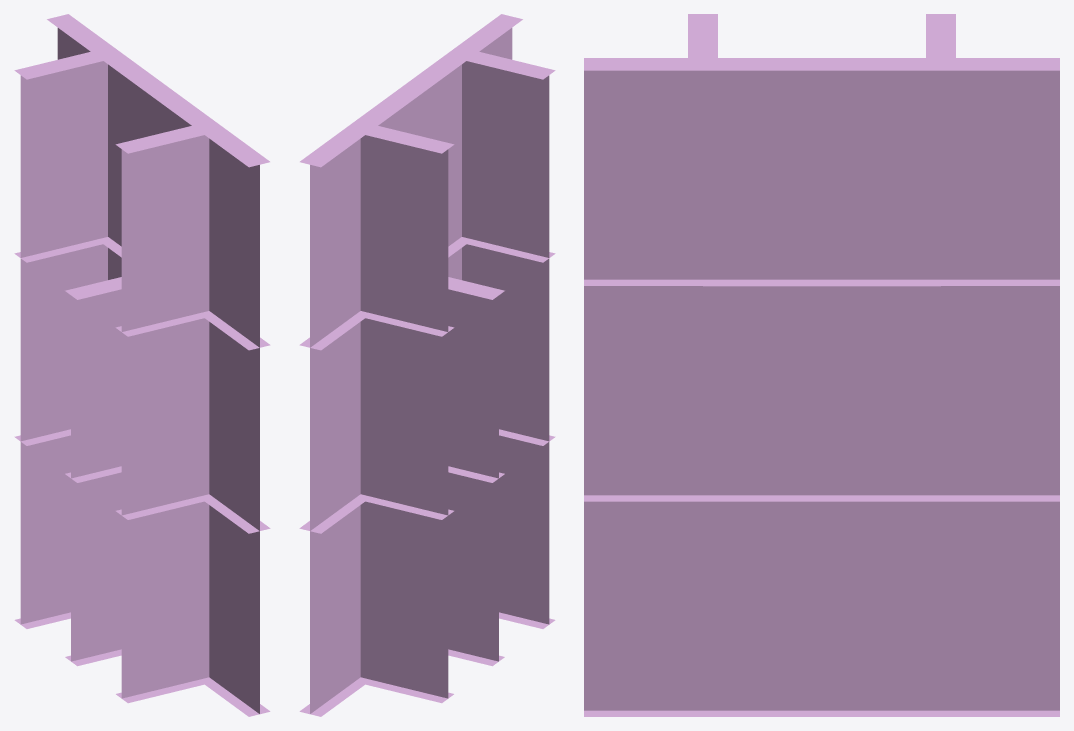
Rendered from iron_bars_lod0.fbx.
The picture shows the model from 3 angles, left to right: view 1: azimuth 30°, elevation 25°; view 2: azimuth 150°, elevation 25°; view 3: azimuth 270°, elevation 25°; orthographic projection. The views are drawn at different scales.
Visible parts, largest first — view 1: iron_bars_01_lod0, iron_bars_02_lod0; view 2: iron_bars_01_lod0, iron_bars_02_lod0; view 3: iron_bars_01_lod0, iron_bars_02_lod0.
Part boxes in pixels (x1,y1,x2,y2): iron_bars_01_lod0: (14, 14, 270, 716); iron_bars_02_lod0: (65, 244, 121, 666); iron_bars_01_lod0: (299, 14, 555, 716); iron_bars_02_lod0: (448, 244, 504, 666); iron_bars_01_lod0: (584, 14, 1059, 716); iron_bars_02_lod0: (703, 286, 940, 716).
Size of the model in its own units: 57.15 by 305 by 203.
